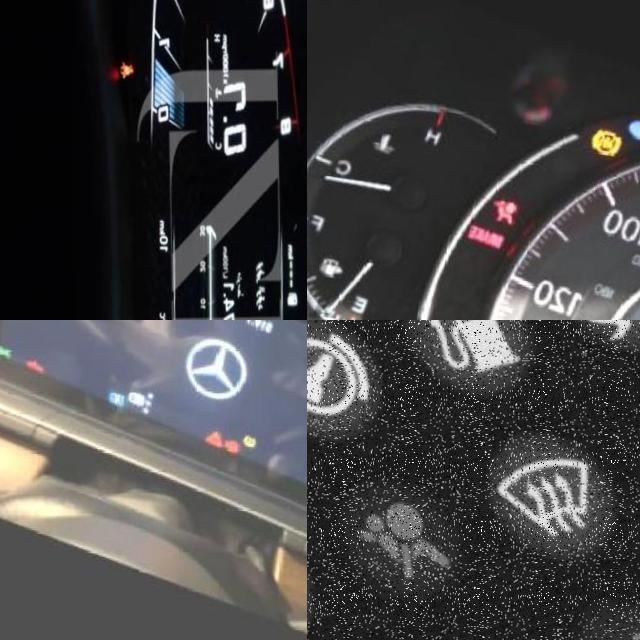Low fuel level: (323, 260, 347, 284)
Seat Belt: (118, 64, 135, 78)
